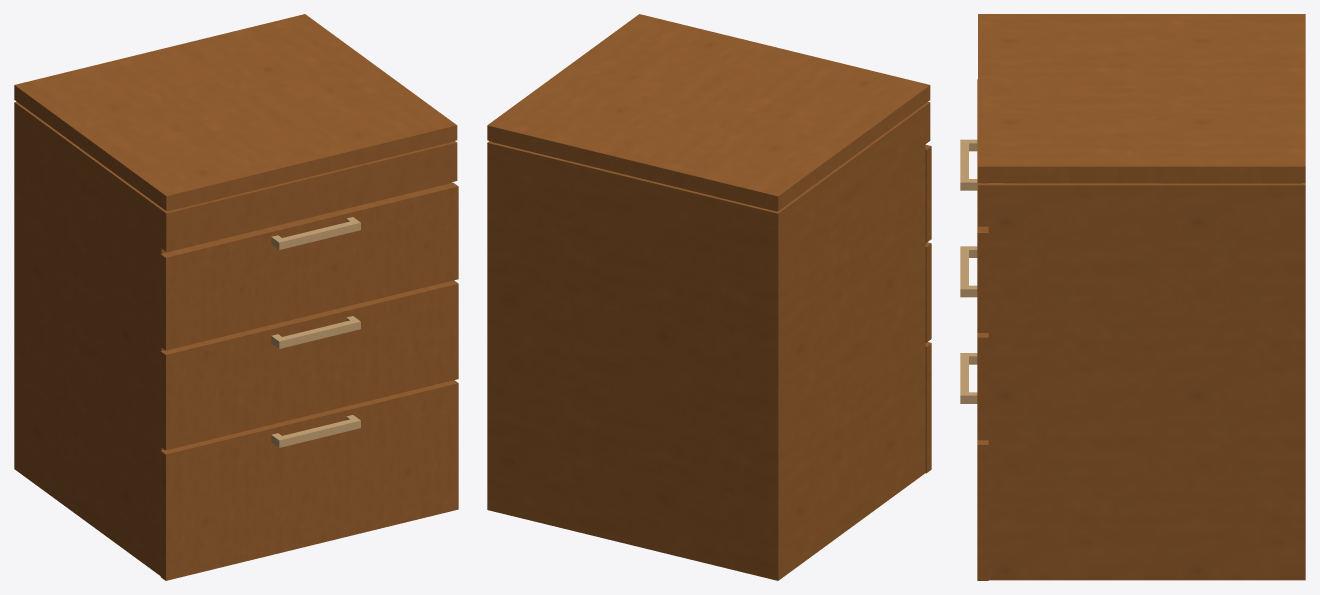
The model's file is Drawer02.fbx.
3 renders of one model, left to right at view 1: azimuth 30°, elevation 25°; view 2: azimuth 150°, elevation 25°; view 3: azimuth 270°, elevation 25°, orthographic. The views are drawn at different scales.
Parts seen in each view (by area): view 1: Drawer_Body02, Drawer02_3, Drawer02_2, Drawer02_1; view 2: Drawer_Body02, Drawer02_3, Drawer02_2, Drawer02_1; view 3: Drawer_Body02, Drawer02_3, Drawer02_1, Drawer02_2.
Part boxes in pixels (x1=…): Drawer_Body02: x1=14, y1=14, x2=457, y2=575; Drawer02_3: x1=160, y1=380, x2=458, y2=580; Drawer02_2: x1=160, y1=280, x2=458, y2=450; Drawer02_1: x1=160, y1=182, x2=458, y2=350; Drawer_Body02: x1=487, y1=14, x2=930, y2=580; Drawer02_3: x1=925, y1=342, x2=931, y2=473; Drawer02_2: x1=925, y1=242, x2=931, y2=342; Drawer02_1: x1=925, y1=145, x2=931, y2=242; Drawer_Body02: x1=978, y1=14, x2=1305, y2=580; Drawer02_3: x1=960, y1=353, x2=988, y2=580; Drawer02_1: x1=960, y1=79, x2=988, y2=332; Drawer02_2: x1=960, y1=246, x2=988, y2=440.
Bounding box in the file's own units: 52.94 × 66.39 × 50.22.
